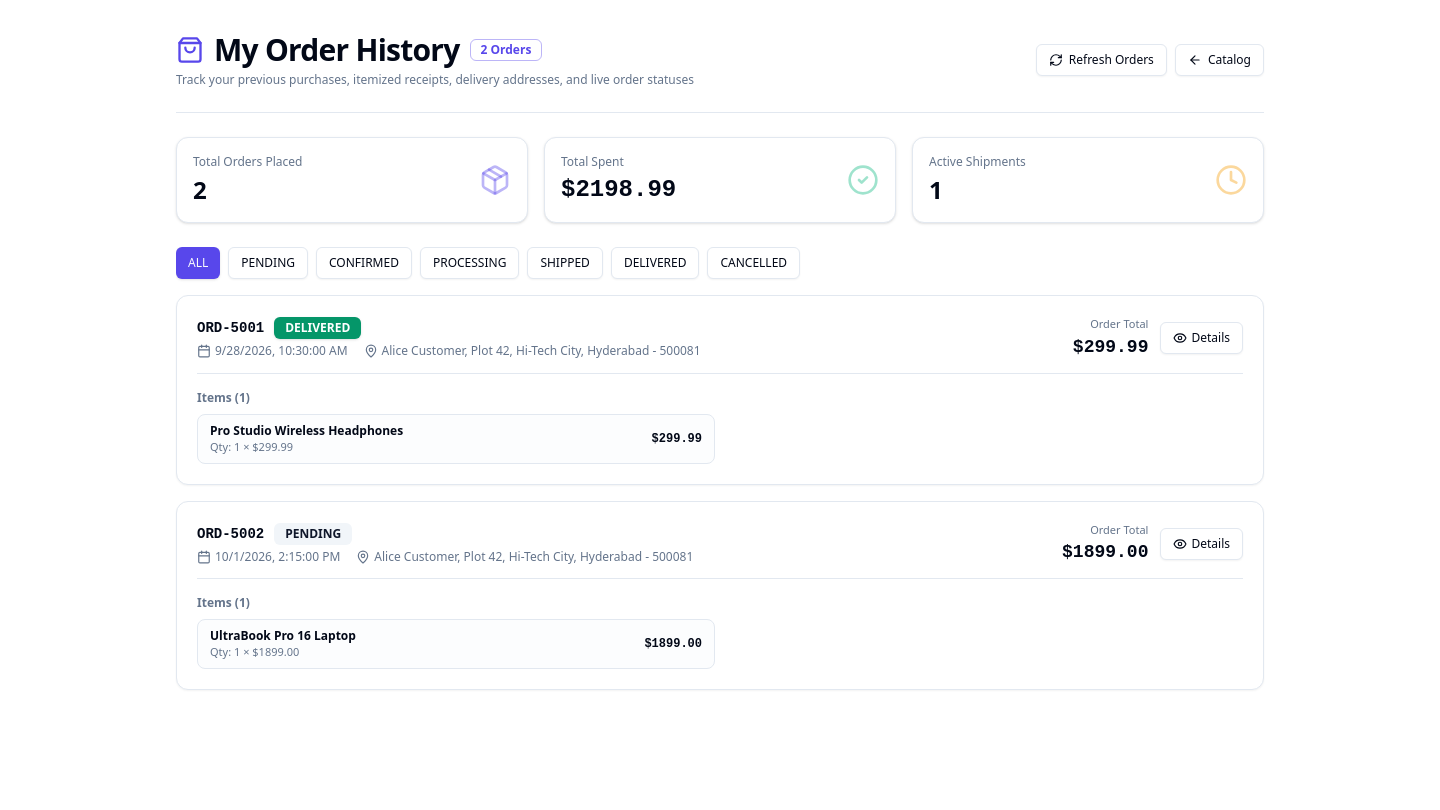
Day 16 — E-Commerce Frontend (Part 2) Comprehensive Test Suite › 3. Order History Page (Customer Orders, Status Filtering & Details Modal) › opens single Order Details modal via GET /orders/:id when clicking Details button
Expected: the text "ORD-5001" is shown, [197,318,264,338]
Click the button "Details" in the row of "9/28/2026, 10:30:00 AM": point(1202, 338) [1160,322,1243,354]
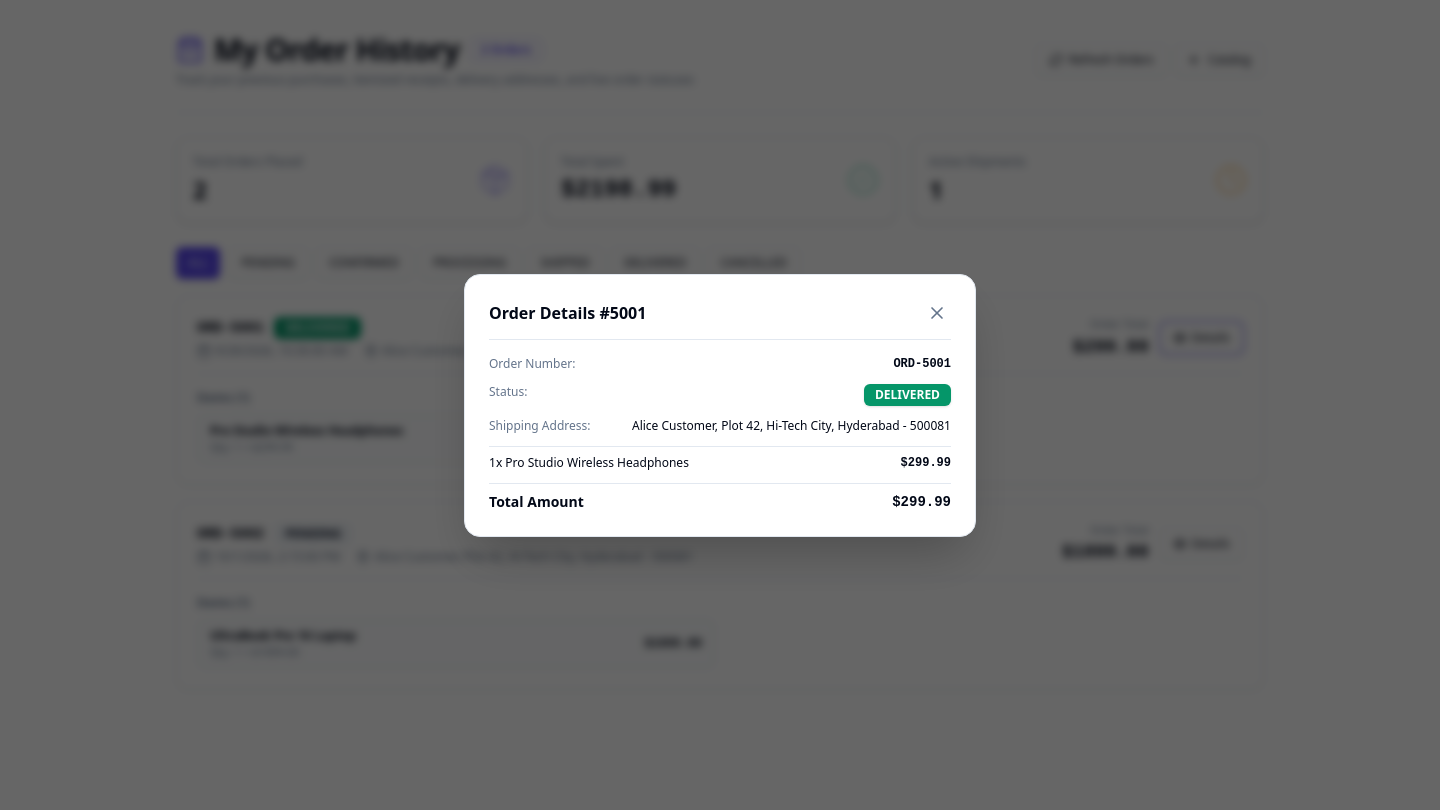
Now the dialog named "order details modal" is shown, box [464,274,976,536]
